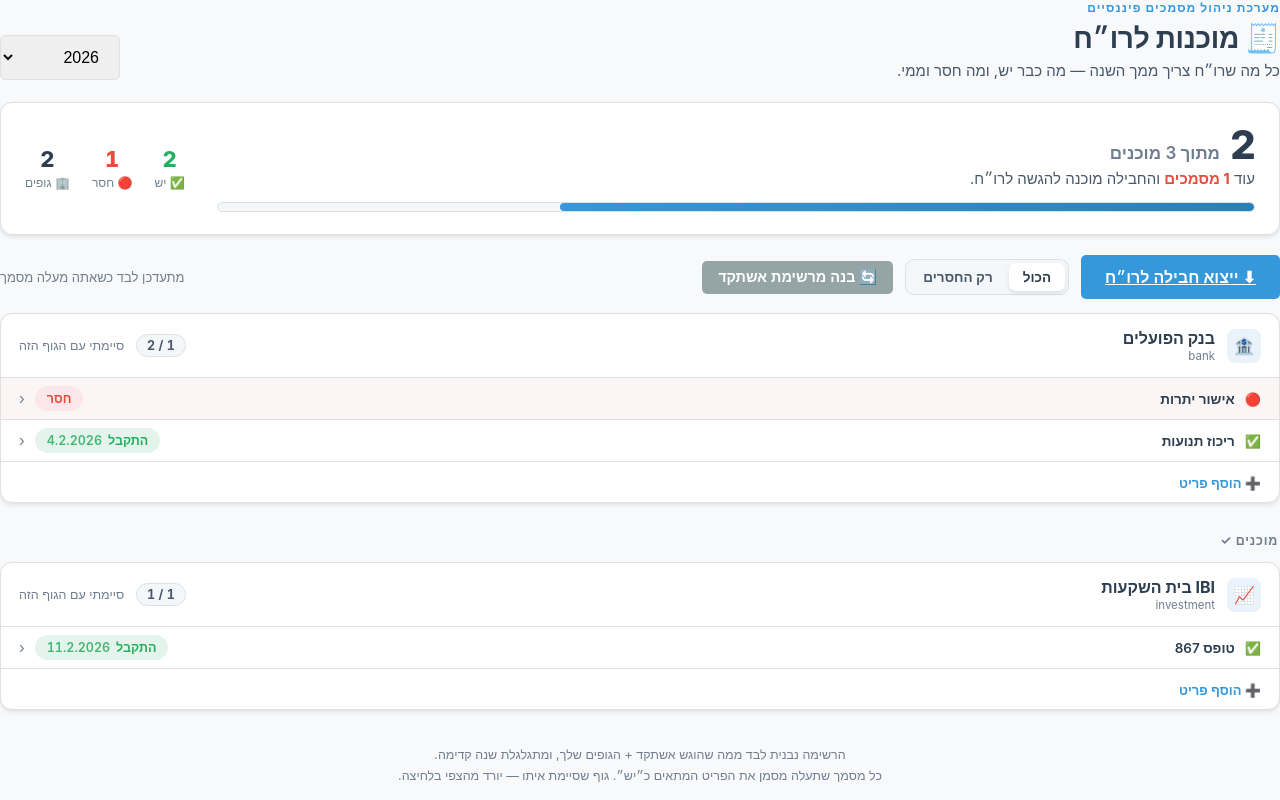
Test: ReadinessPage › לחיצה על שורת פריט חסר פותחת פופאפ עם כפתור העלאה
Click the text "אישור יתרות". click: coordinates (1198, 398)
box: [1160,390,1235,406]
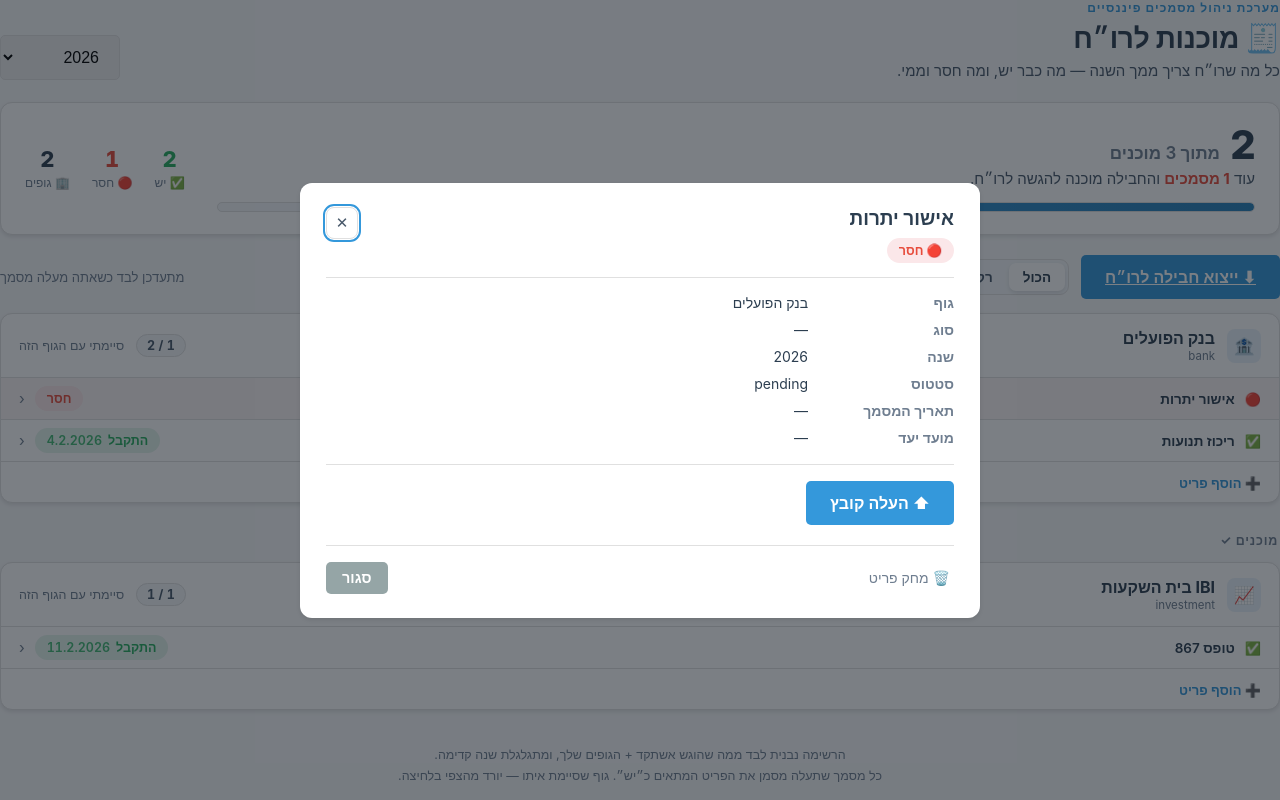
expect the text "גוף" is shown: met, box [934,294,954,310]
expect the text "בנק הפועלים" is shown: met, box [733,294,808,310]
expect the file field "⬆ העלה קובץ" is shown: met, box [806,480,954,524]
